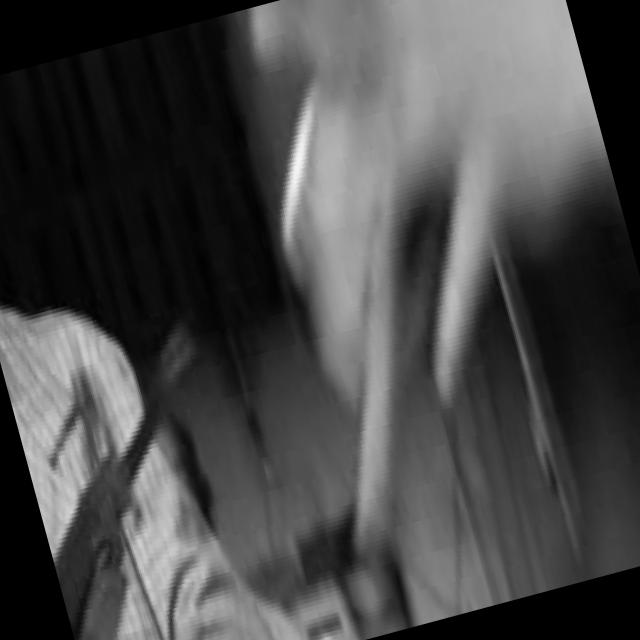Guns: (40, 332, 295, 640)
